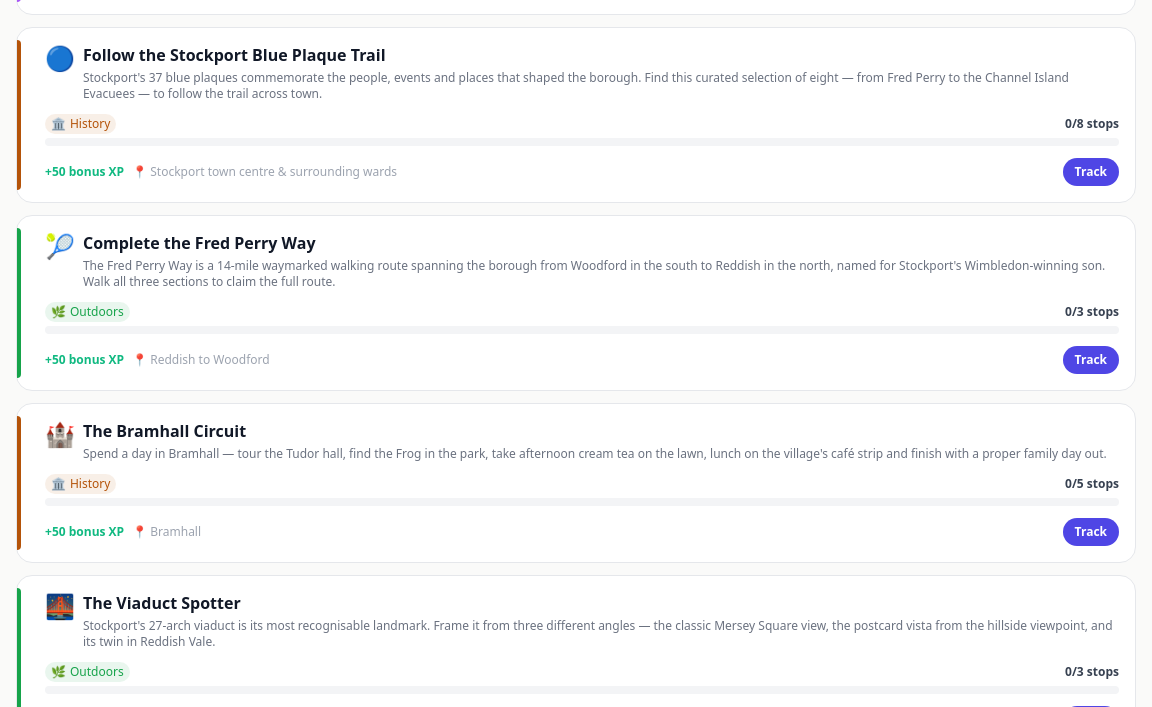
Test: MetaQuestsPage › Track button toggles tracking for a trail
The width and height of the screenshot is (1152, 707).
(page scrolled)
Click the button with aria-label "Track Complete the Fred Perry Way".
click(1091, 360)  # box [1063,346,1119,374]
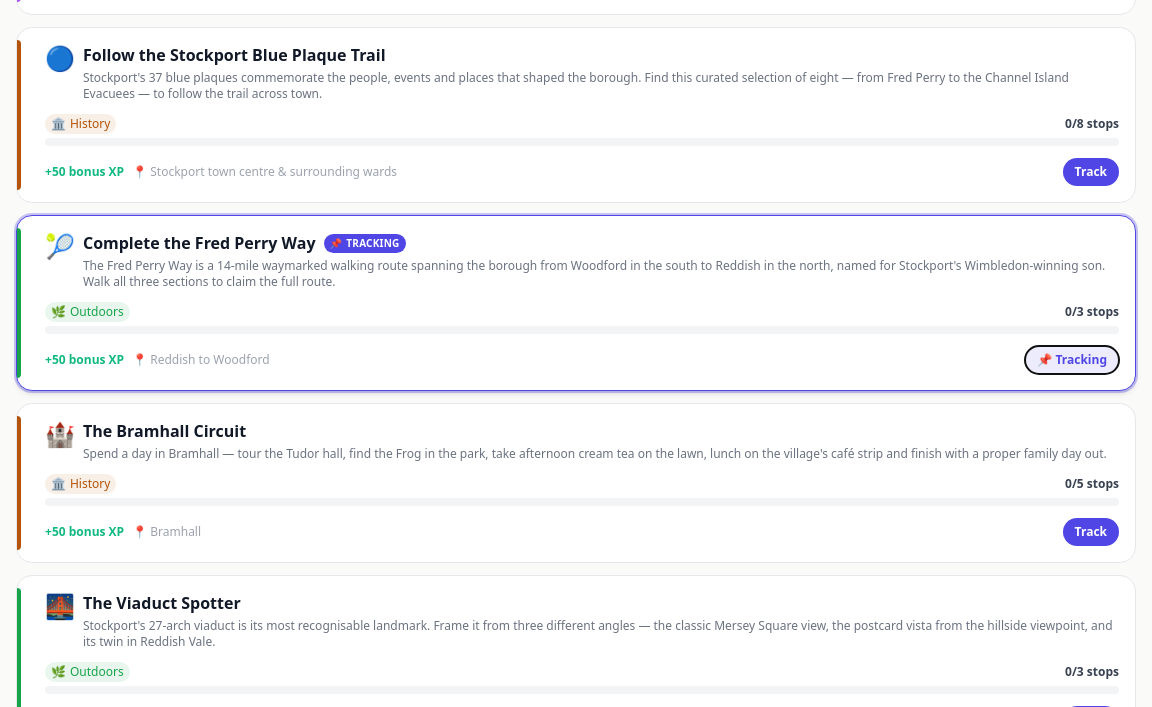
Expected: the button with aria-label "Stop tracking Complete the Fred Perry Way" is shown, [1025,346,1119,374]
